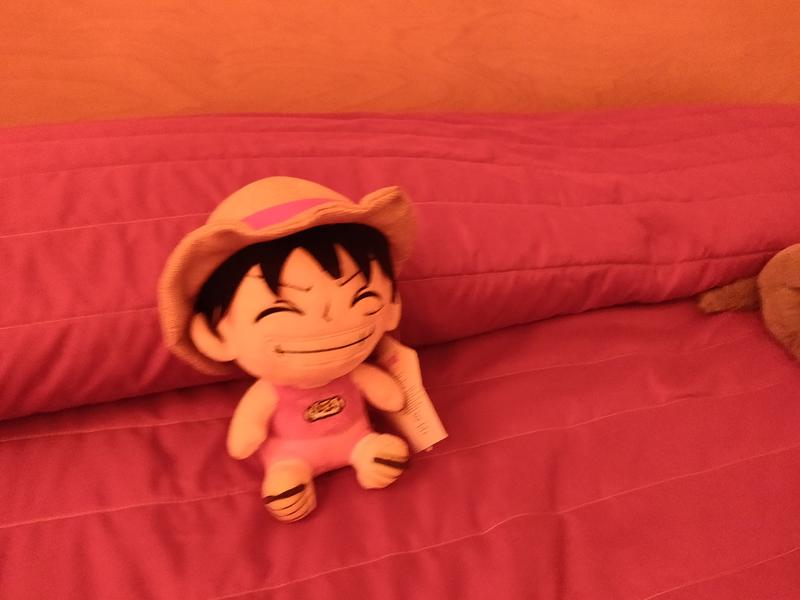rufy: (158, 163, 455, 517)
